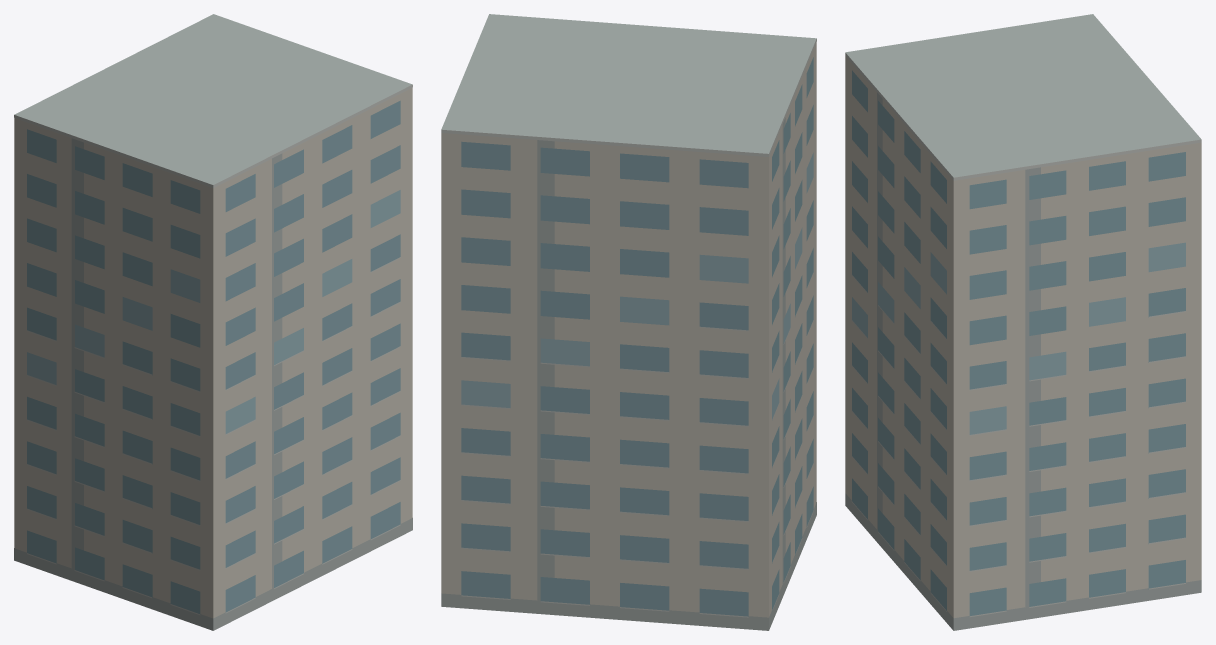
The model's file is residential-71567871-116f-482b-ab82-77c6f4efc170.glb.
The picture shows the model from 3 angles, left to right: view 1: azimuth 30°, elevation 25°; view 2: azimuth 150°, elevation 25°; view 3: azimuth 270°, elevation 25°; orthographic projection. The views are drawn at different scales.
Parts seen in each view (by area): view 1: residential-71567871-116f-482b-ab82-77c6f4efc170.tmp; view 2: residential-71567871-116f-482b-ab82-77c6f4efc170.tmp; view 3: residential-71567871-116f-482b-ab82-77c6f4efc170.tmp.
Boxes of the visible parts, box(x1,y1,x2,y2) form: residential-71567871-116f-482b-ab82-77c6f4efc170.tmp: box(14, 14, 412, 630); residential-71567871-116f-482b-ab82-77c6f4efc170.tmp: box(441, 14, 816, 630); residential-71567871-116f-482b-ab82-77c6f4efc170.tmp: box(845, 14, 1201, 630).
Bounding box in the file's own units: 27.9 × 36 × 25.67.
